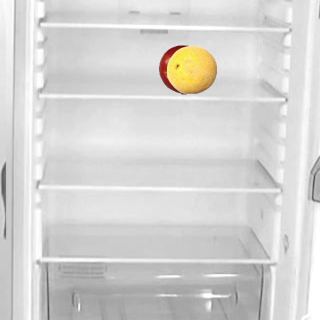Apple Braeburn: (158, 44, 208, 94)
Cantaloupe 1: (166, 44, 216, 94)
